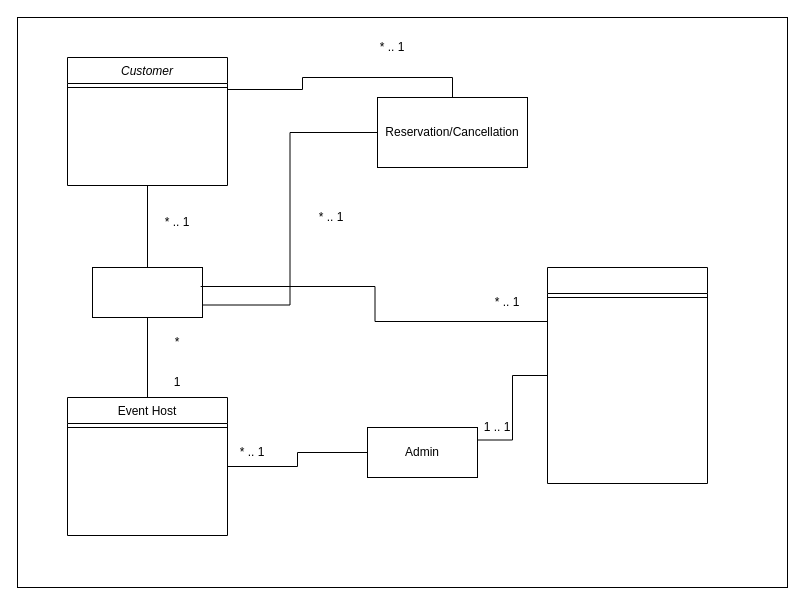
Image size: 805x605. Some labels were removed from this diagram. Each missing label, with the centre of its shape:
"system" goes at point (147, 292).
"Venue" goes at point (627, 375).
